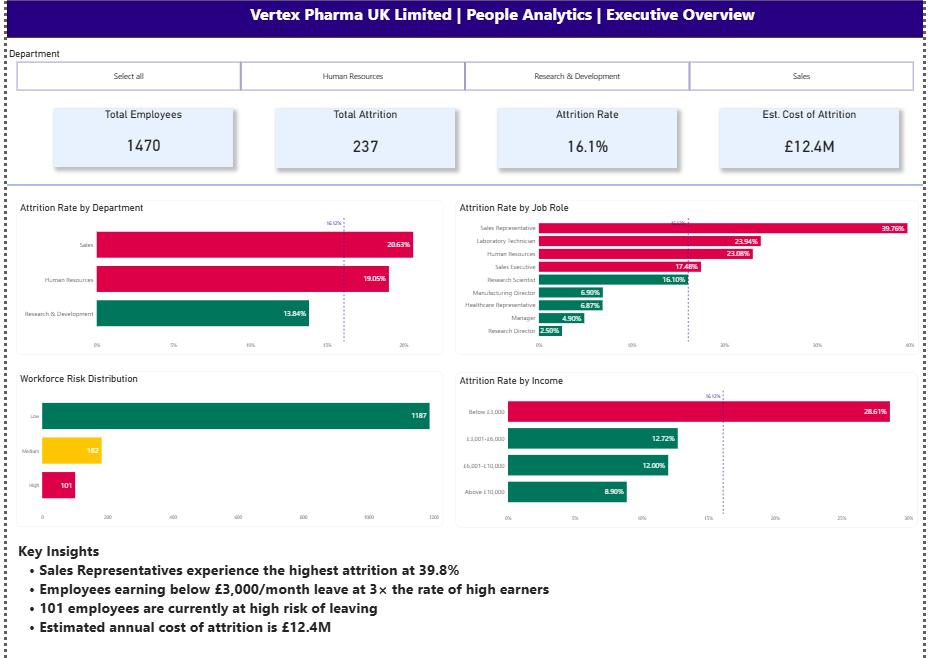

This screenshot's page, from the dashboard's own definition file:
{"tool":"powerbi","page":{"name":"Executive Overview","canvas":[2400,1749],"ordinal":0},"visuals":[{"type":"card","title":"Total Employees","fields":{"Values":["VP_Dashboard_Data.Total Employees"]},"box":[122.7,304.8,471,154.2],"z":0},{"type":"card","title":"Total Attrition","fields":{"Values":["VP_Dashboard_Data.Total Attrition"]},"box":[704.7,304.8,471,157.3],"z":1000},{"type":"card","title":"Attrition Rate","fields":{"Values":["VP_Dashboard_Data.Attrition Rate"]},"box":[1286.7,304.8,471,157.3],"z":2000},{"type":"card","title":"Est. Cost of Attrition","fields":{"Values":["VP_Dashboard_Data.Est Cost of Attrition"]},"box":[1868.8,304.8,471,157.3],"z":3000},{"type":"clusteredBarChart","fields":{"Category":["VP_Dashboard_Data.Department"],"Y":["VP_Dashboard_Data.Attrition Rate"]},"box":[25.2,544.3,1120,405.8],"z":4000},{"type":"clusteredBarChart","title":"Attrition Rate by Job Role","fields":{"Y":["VP_Dashboard_Data.Attrition Rate"],"Category":["VP_Dashboard_Data.JobRole"]},"box":[1176.6,544.3,1214.4,405.8],"z":5000},{"type":"barChart","title":"Workforce Risk Distribution","fields":{"Y":["VP_Dashboard_Data.Total Employees"],"Category":["VP_Dashboard_Data.RiskBand"]},"box":[25.2,991,1120,409],"z":6000},{"type":"shape","box":[0,460.2,2599.6,86.3],"z":7000},{"type":"textbox","box":[0,21.6,2599.6,97.1],"z":8000},{"type":"clusteredBarChart","title":"Attrition Rate by Income","fields":{"Y":["VP_Dashboard_Data.Attrition Rate"],"Category":["VP_Dashboard_Data.IncomeBand"]},"box":[1176.6,994.2,1211.2,405.8],"z":9000},{"type":"slicer","title":"Department","fields":{"Values":["VP_Dashboard_Data.Department"]},"box":[0,144.7,2400.4,116.4],"z":10000},{"type":"textbox","box":[25,1431.2,1668.8,303.1],"z":11000}]}

Visuals, with their boxes in screenshot pixels (x1, y1, x2, y2), scaled from the page's 2400x1749 canvas onto the 930x658 screenshot:
"Total Employees" card: {"x1": 48, "y1": 115, "x2": 230, "y2": 173}
"Total Attrition" card: {"x1": 273, "y1": 115, "x2": 456, "y2": 174}
"Attrition Rate" card: {"x1": 499, "y1": 115, "x2": 681, "y2": 174}
"Est. Cost of Attrition" card: {"x1": 724, "y1": 115, "x2": 907, "y2": 174}
clusteredBarChart - VP_Dashboard_Data.Department x VP_Dashboard_Data.Attrition Rate: {"x1": 10, "y1": 205, "x2": 444, "y2": 357}
"Attrition Rate by Job Role" clusteredBarChart: {"x1": 456, "y1": 205, "x2": 927, "y2": 357}
"Workforce Risk Distribution" barChart: {"x1": 10, "y1": 373, "x2": 444, "y2": 527}
shape: {"x1": 0, "y1": 173, "x2": 929, "y2": 206}
textbox: {"x1": 0, "y1": 8, "x2": 929, "y2": 45}
"Attrition Rate by Income" clusteredBarChart: {"x1": 456, "y1": 374, "x2": 925, "y2": 527}
"Department" slicer: {"x1": 0, "y1": 54, "x2": 929, "y2": 98}
textbox: {"x1": 10, "y1": 538, "x2": 656, "y2": 652}
